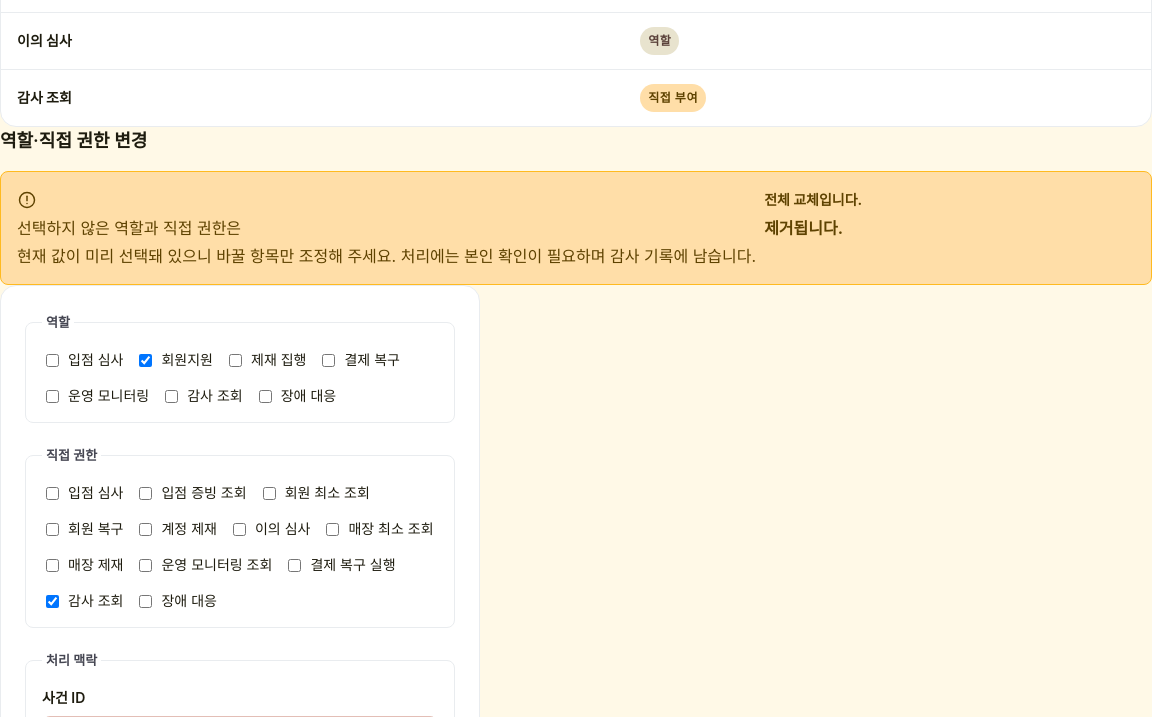
Test case: 운영자 계정 상세 권한 › 권한 교체 충돌 후 최신 authority version의 선택값으로 폼을 다시 초기화한다
(page scrolled)
Expected: the checkbox labelled "감사 조회" below "매장 제재" is checked, [46,594,59,608]
Click the checkbox labelled "회원지원". click: x=146, y=360
box: [140,354,152,366]
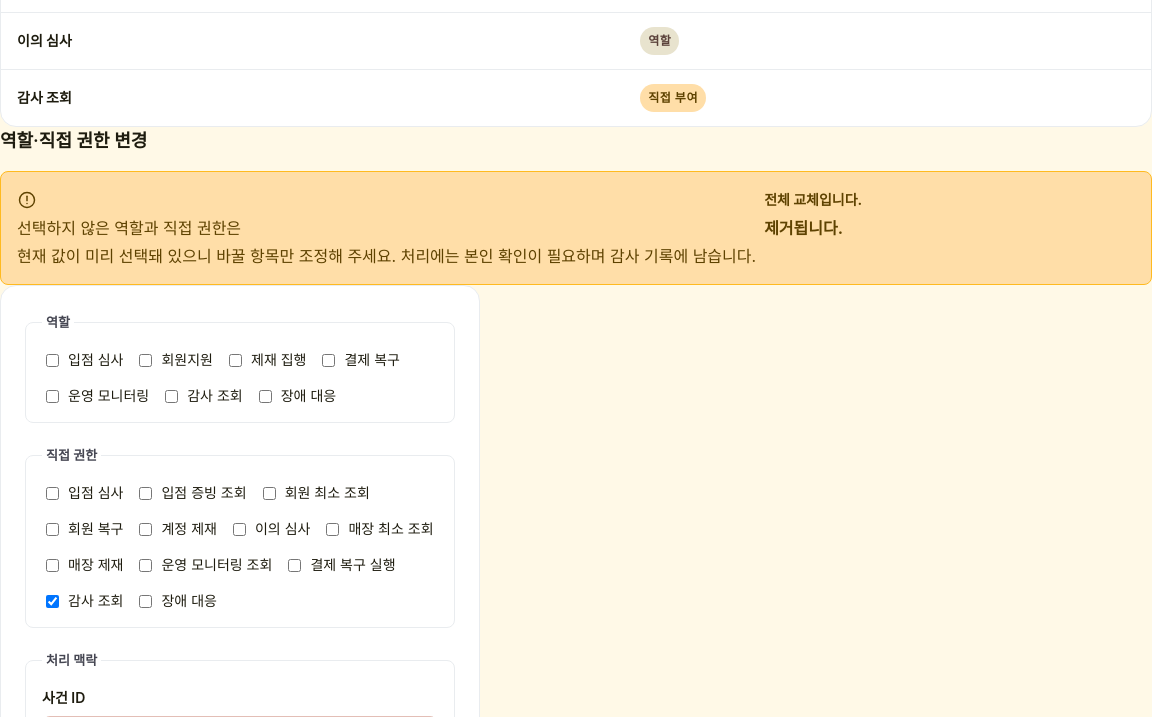
Click the checkbox labelled "입점 심사" in the row of "제재 집행". click: x=52, y=360
box: [46,354,59,366]
(page scrolled)
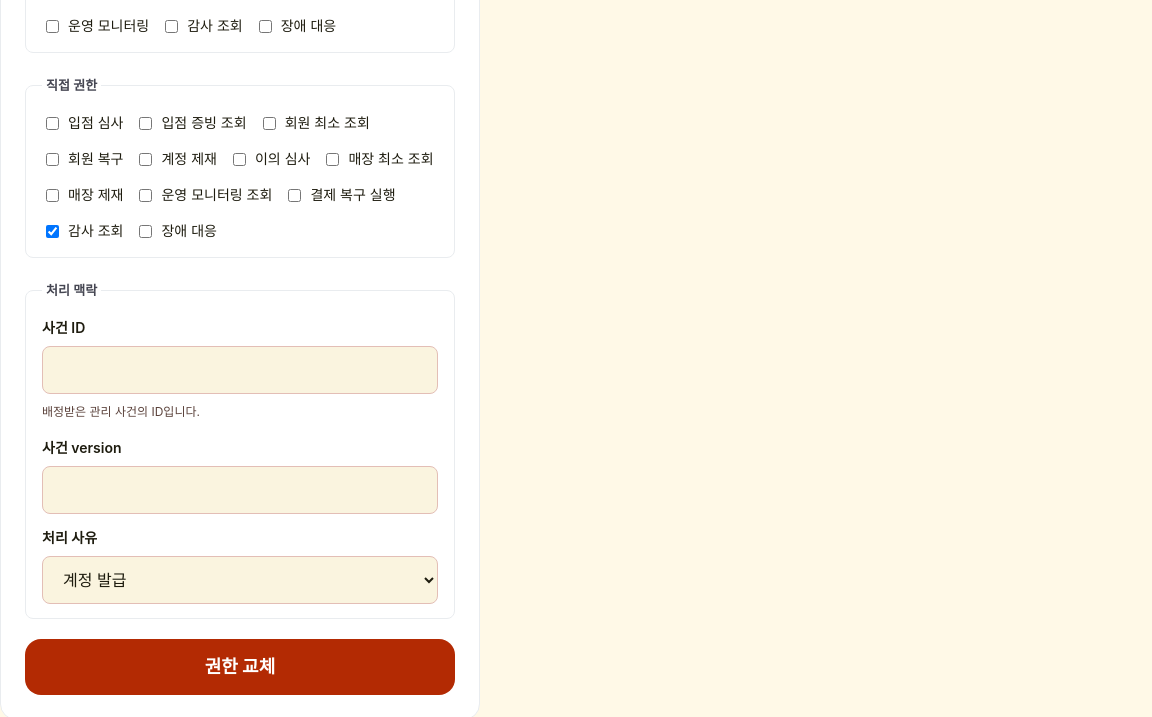
Type "case-200" into the field labelled "사건 ID". click: x=240, y=370
box: [42,346,438,394]
Type "3" into the field labelled "사건 version". click: x=240, y=490
box: [42,466,438,514]
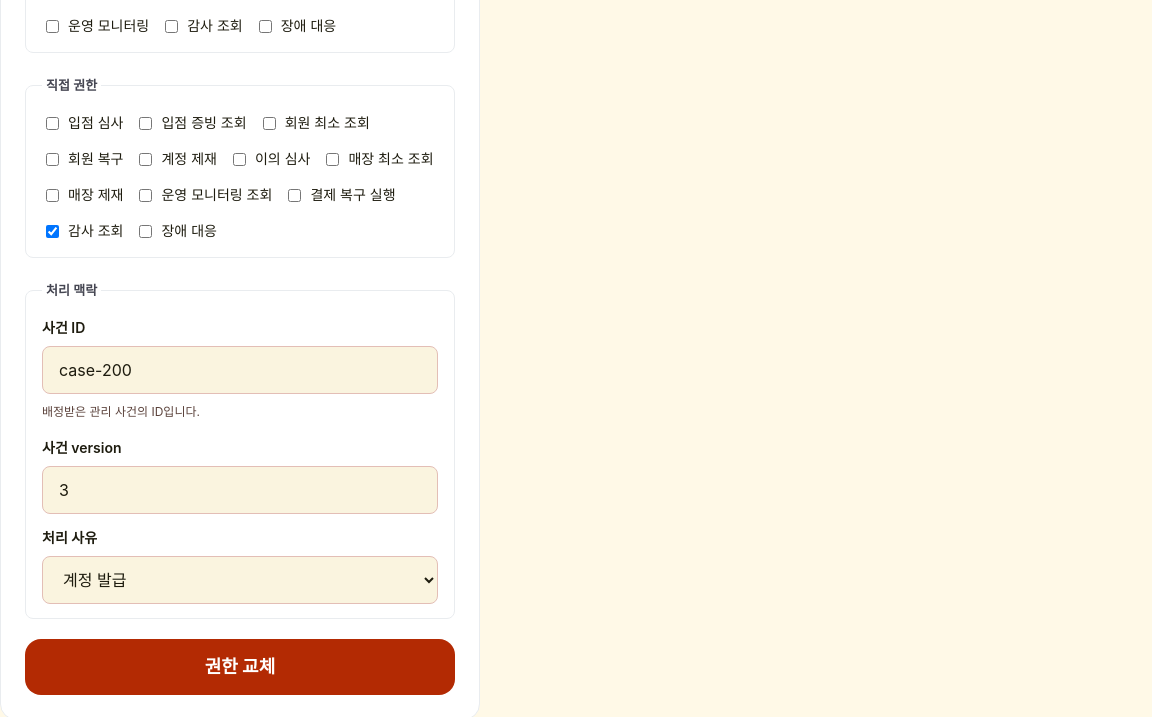
Click the button "권한 교체". click: x=240, y=667
box: [25,639,455,695]
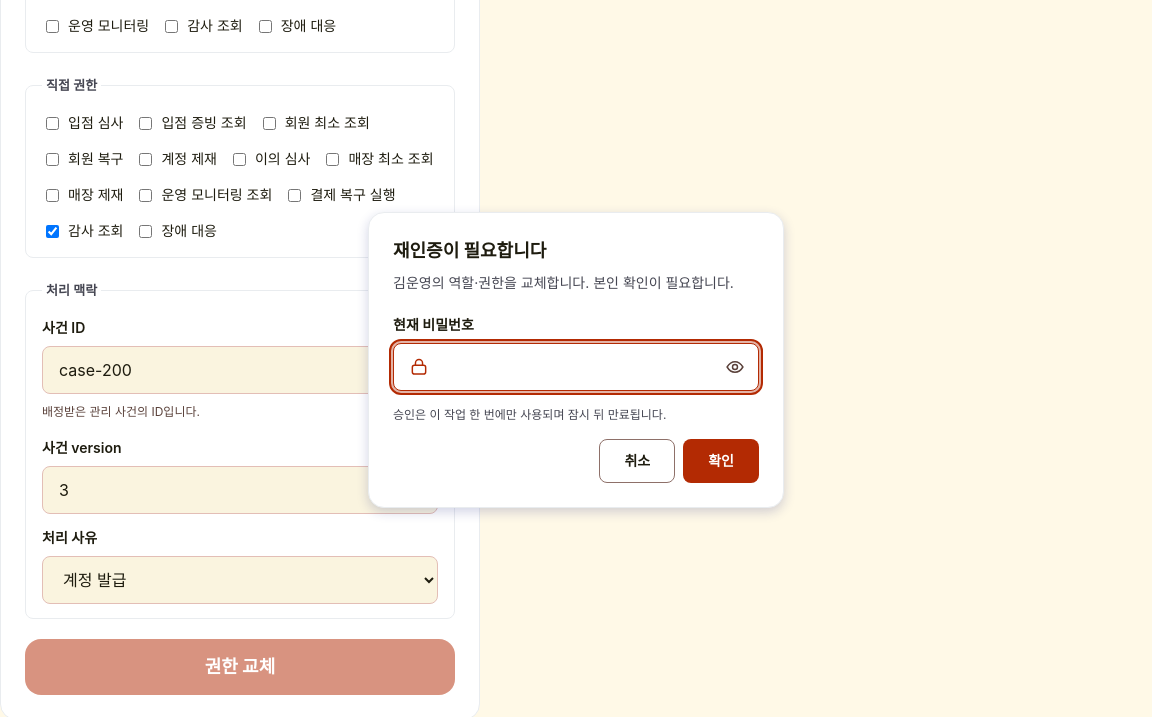
Expected: the dialog "재인증이 필요합니다" is shown, [368,212,784,508]
Type "Miriyum1!" into the password field labelled "현재 비밀번호". click: x=576, y=367
box: [393,343,759,391]
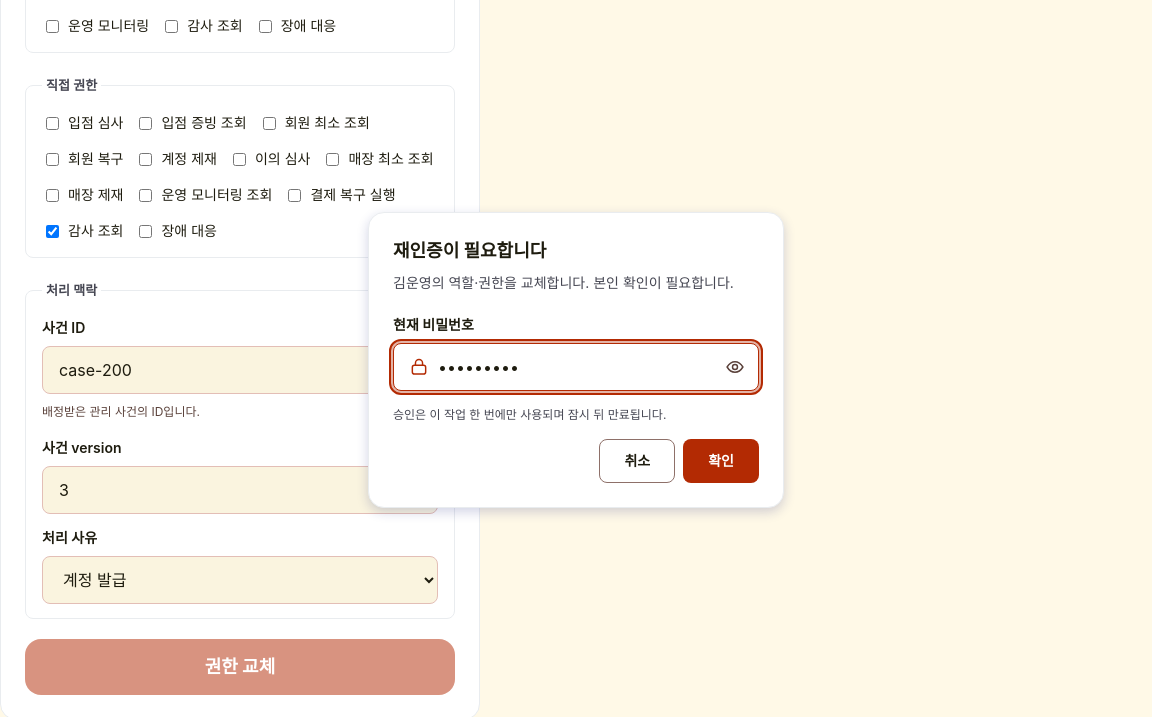
Click the button "확인". click: x=721, y=461
box: [683,439,759,483]
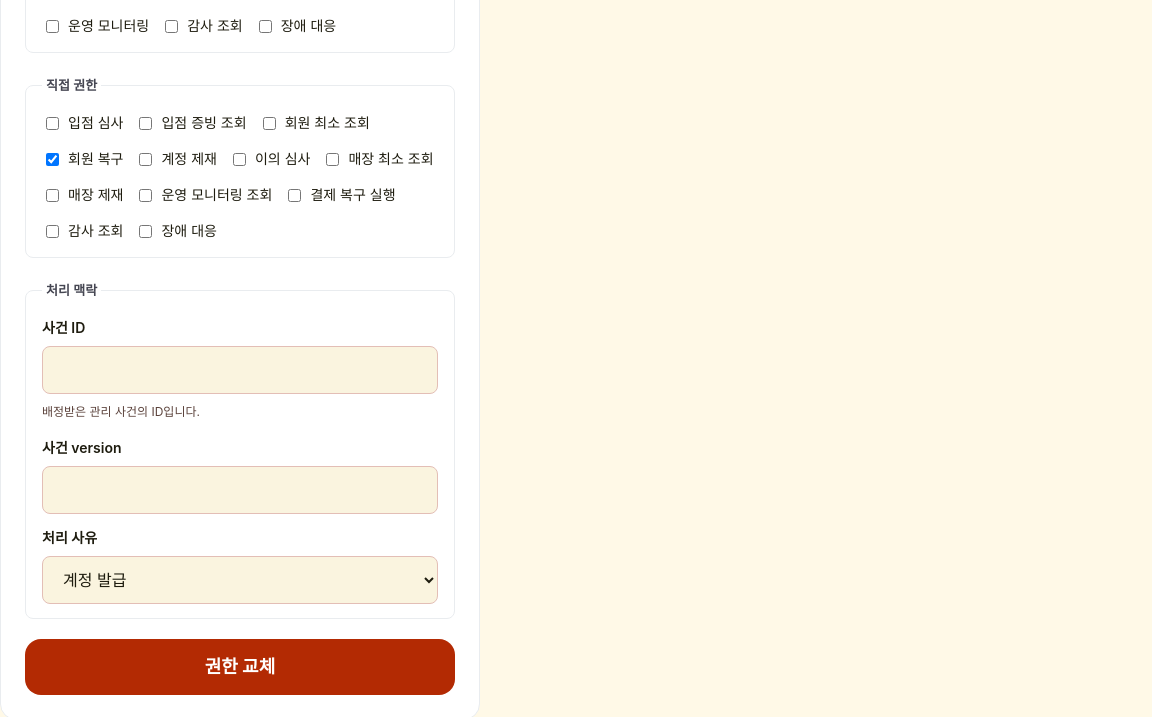
Expected: the checkbox labelled "감사 조회" below "매장 제재" is not checked, [46,224,59,238]
Expected: the checkbox labelled "회원 복구" is checked, [46,152,59,166]
